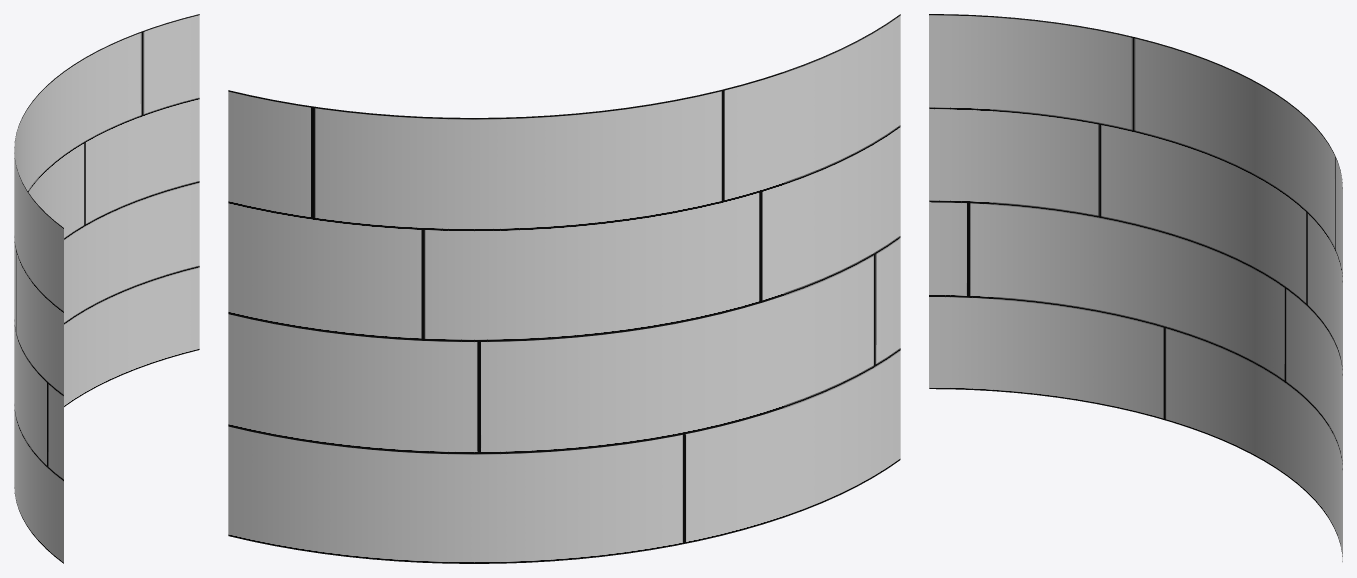
Rendered from WallRoundAngle350x350cm.FBX.
3 views of the same model, side by side, from view 1: azimuth 30°, elevation 25°; view 2: azimuth 150°, elevation 25°; view 3: azimuth 270°, elevation 25° (orthographic). The views are drawn at different scales.
Parts seen in each view (by area): view 1: WallRoundAngle350x350cm; view 2: WallRoundAngle350x350cm; view 3: WallRoundAngle350x350cm.
Boxes of the visible parts, x1,y1,x2,y2 form: WallRoundAngle350x350cm: (14,14,199,563); WallRoundAngle350x350cm: (228,14,900,563); WallRoundAngle350x350cm: (929,14,1342,561).
Size of the model in its own units: 3500 by 3500 by 3500.
